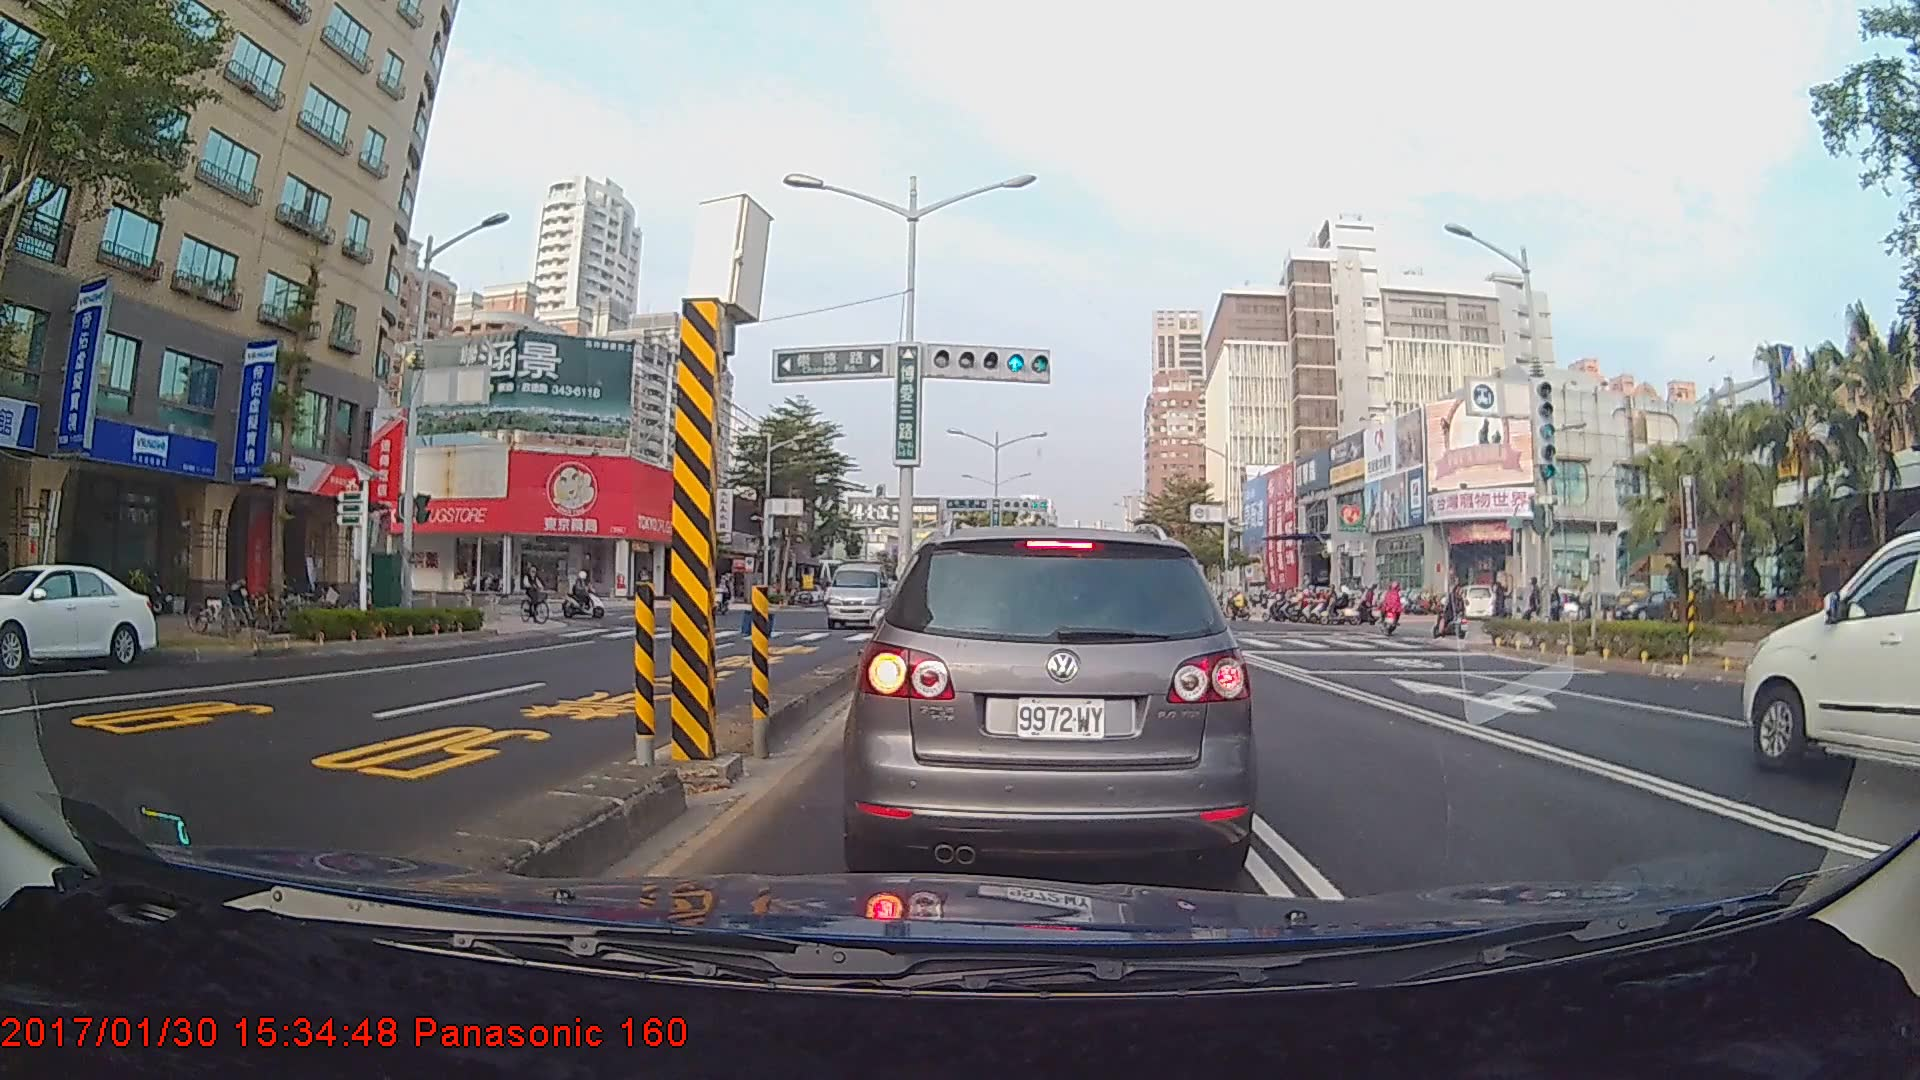pedestrian: (1492, 579, 1515, 637)
rider: (563, 568, 615, 625), (518, 559, 559, 629), (1436, 582, 1473, 646), (1383, 580, 1410, 640)
vehicle: (855, 524, 1250, 875), (1740, 520, 1920, 797), (0, 561, 159, 671), (823, 554, 891, 629)
